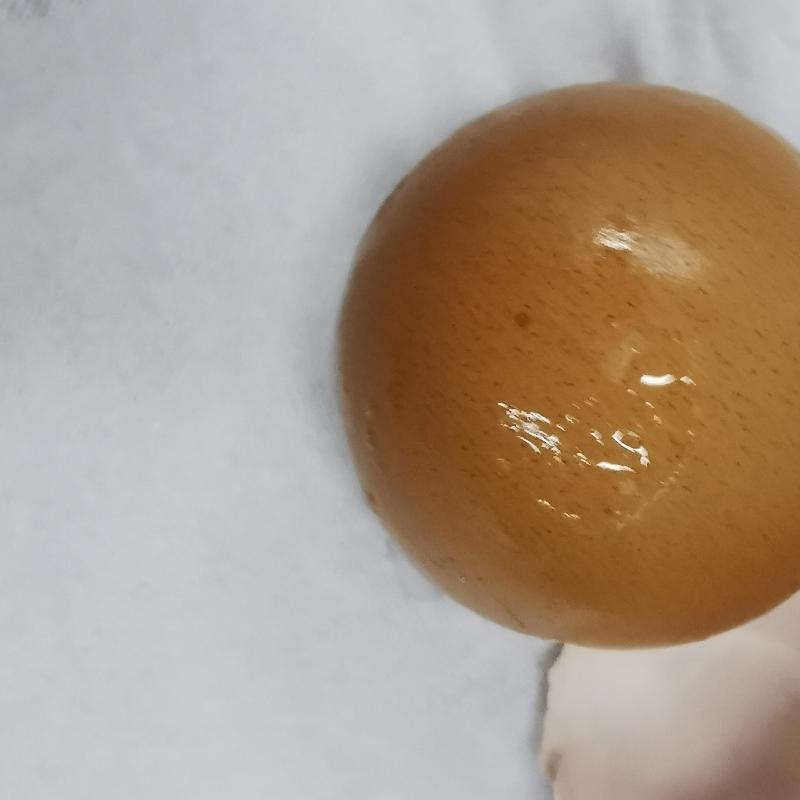eggshell: (333, 84, 800, 647)
